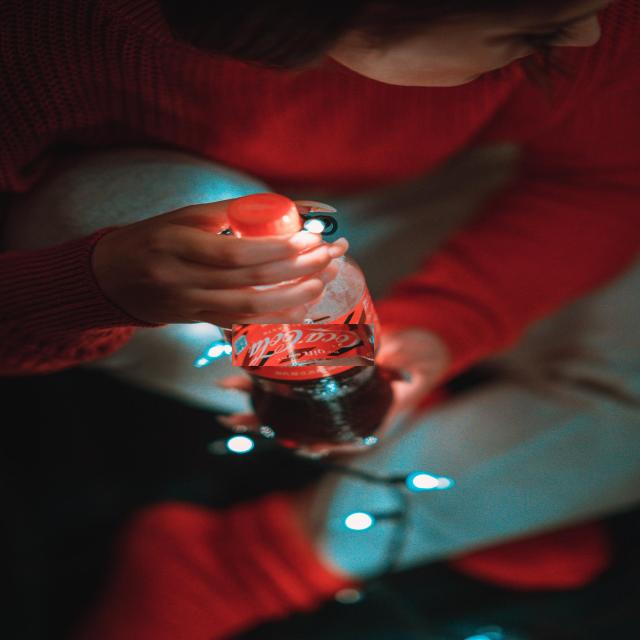coca-cola: (232, 324, 374, 366)
